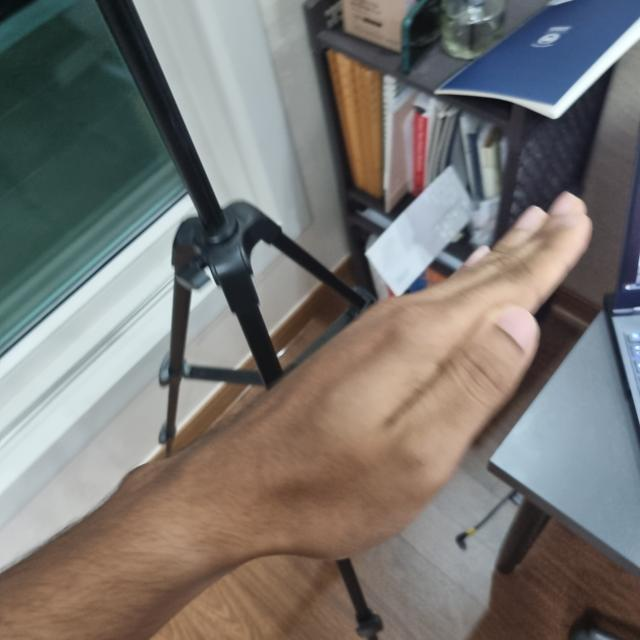Paper: (197, 194, 593, 559)
